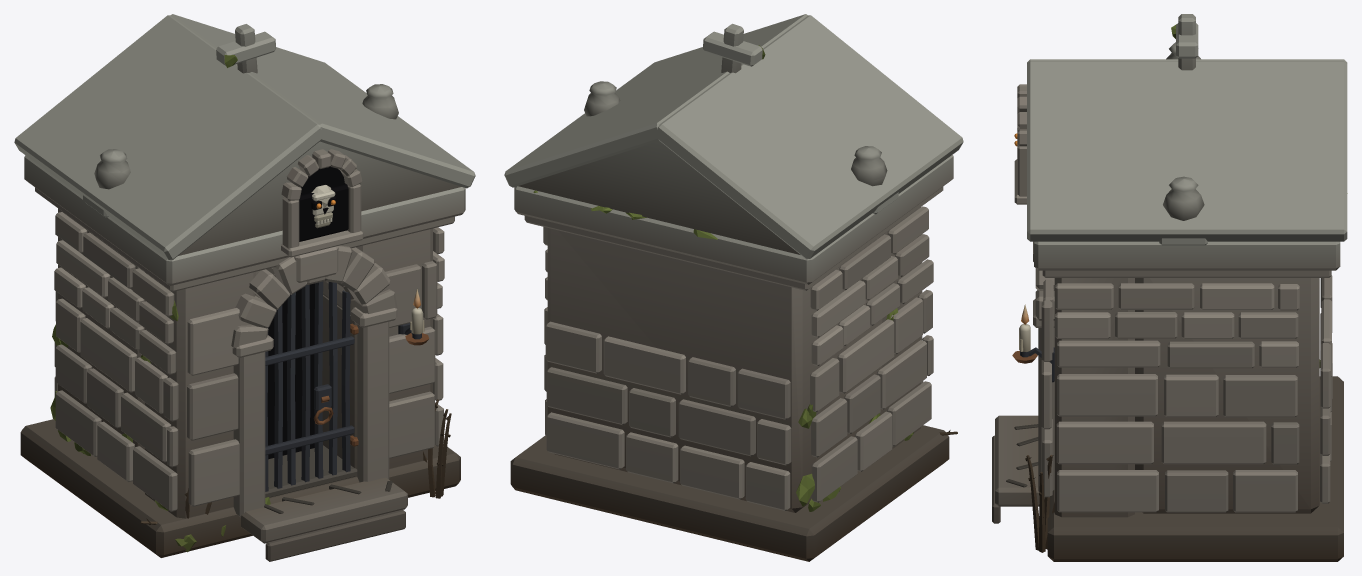
The model's file is crypt_tomb_01.glb.
The picture shows the model from 3 angles, left to right: view 1: azimuth 30°, elevation 25°; view 2: azimuth 150°, elevation 25°; view 3: azimuth 270°, elevation 25°; orthographic projection. The views are drawn at different scales.
Visible parts, largest first — view 1: crypt_tomb_01; view 2: crypt_tomb_01; view 3: crypt_tomb_01.
Boxes of the visible parts, x1,y1,x2,y2 form: crypt_tomb_01: [14, 14, 475, 561]; crypt_tomb_01: [504, 14, 963, 561]; crypt_tomb_01: [992, 14, 1347, 561].
Bounding box in the file's own units: 2.23 × 3 × 2.04.
